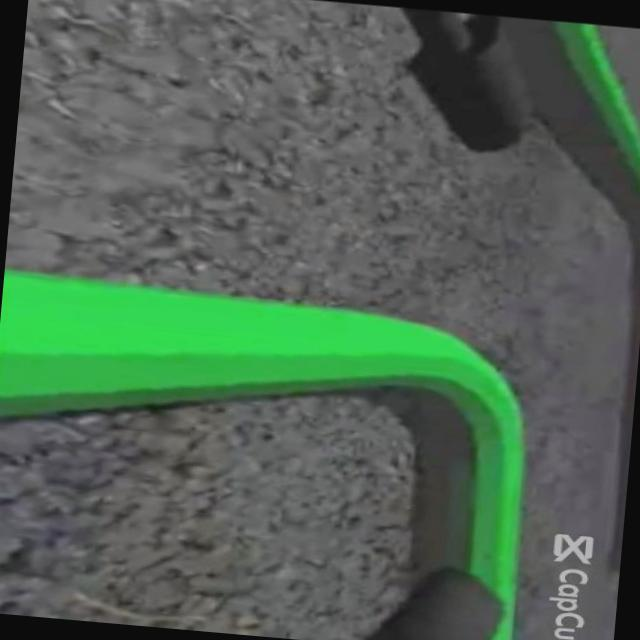gas: (0, 263, 541, 481), (385, 314, 544, 575)
